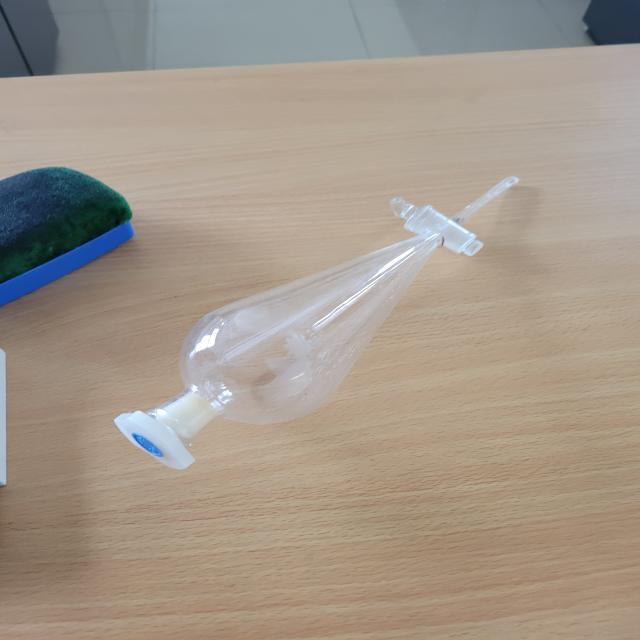Separating_Funnel: (89, 150, 548, 484)
